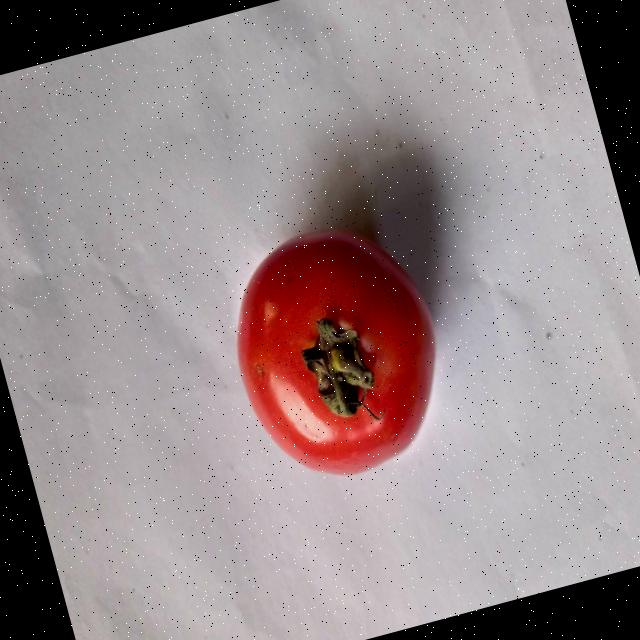Ripe: (202, 200, 469, 500)
